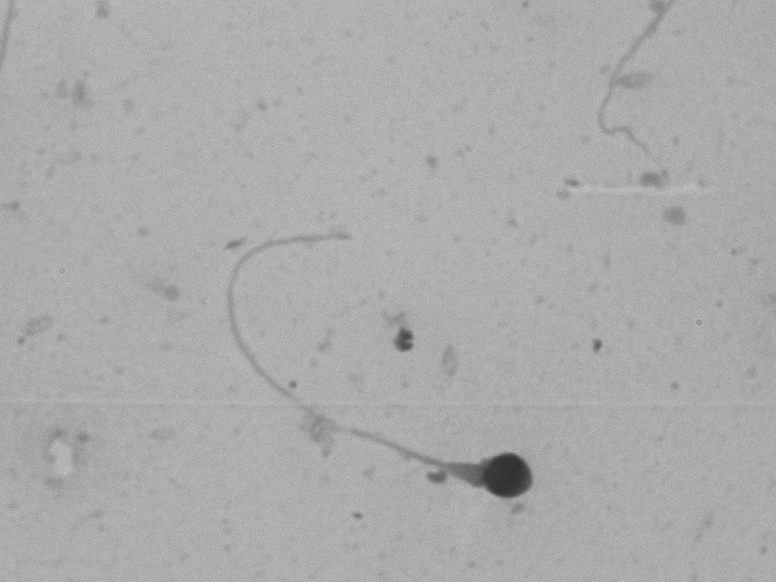Abnormal: (190, 211, 563, 546)
